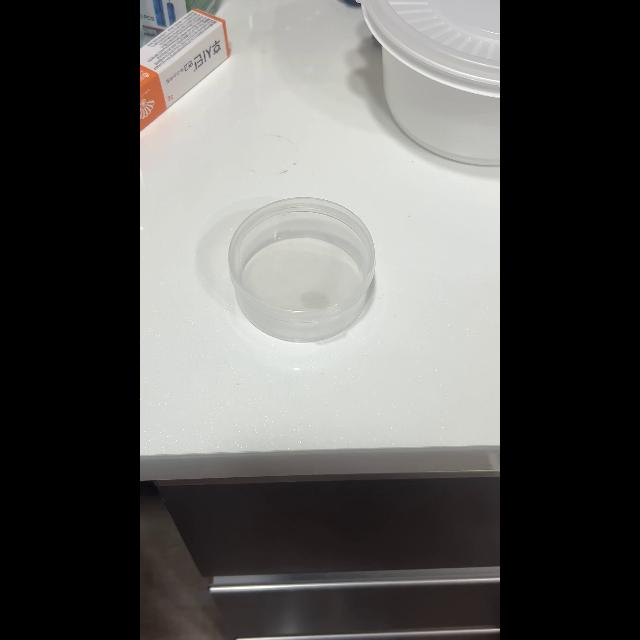clean: (224, 191, 384, 345)
